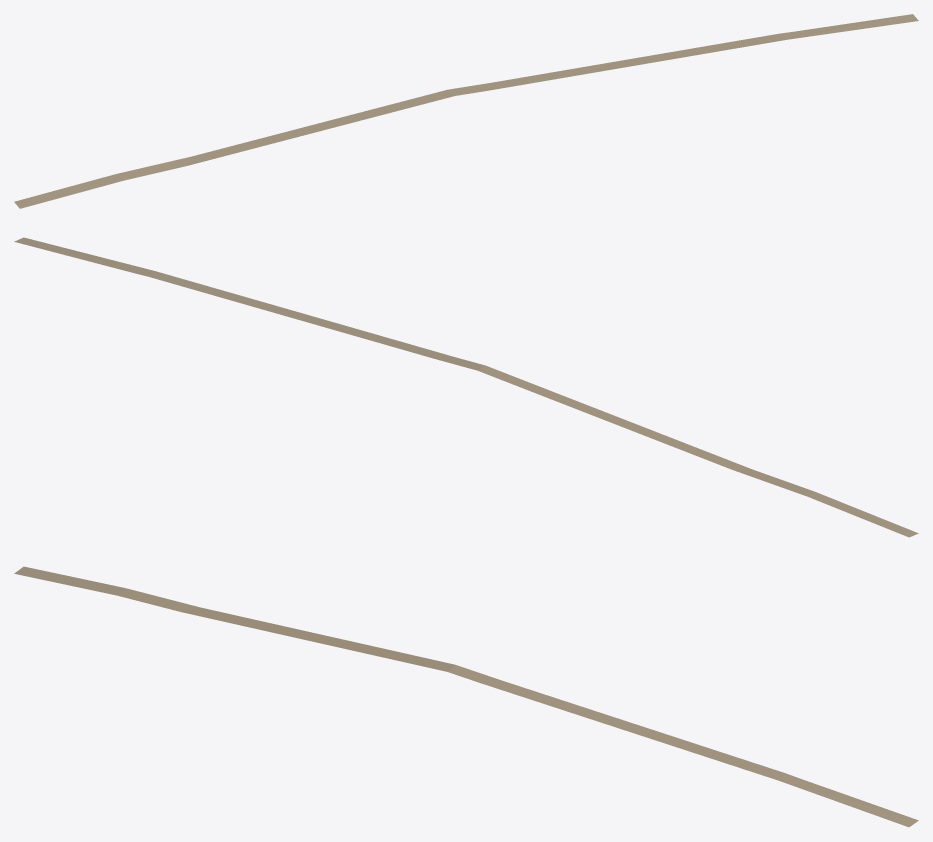
Rendered from farm_22_20_track.glb.
3 views of the same model, one above another, from view 1: azimuth 30°, elevation 25°; view 2: azimuth 150°, elevation 25°; view 3: azimuth 330°, elevation 25° (orthographic). The views are drawn at different scales.
Parts seen in each view (by area): view 1: geometry_0; view 2: geometry_0; view 3: geometry_0.
Boxes of the visible parts, x1,y1,x2,y2 form: geometry_0: [14, 14, 918, 208]; geometry_0: [14, 237, 918, 537]; geometry_0: [14, 566, 918, 827].
Bounding box in the file's own units: 217 × 7.81 × 26.07.
